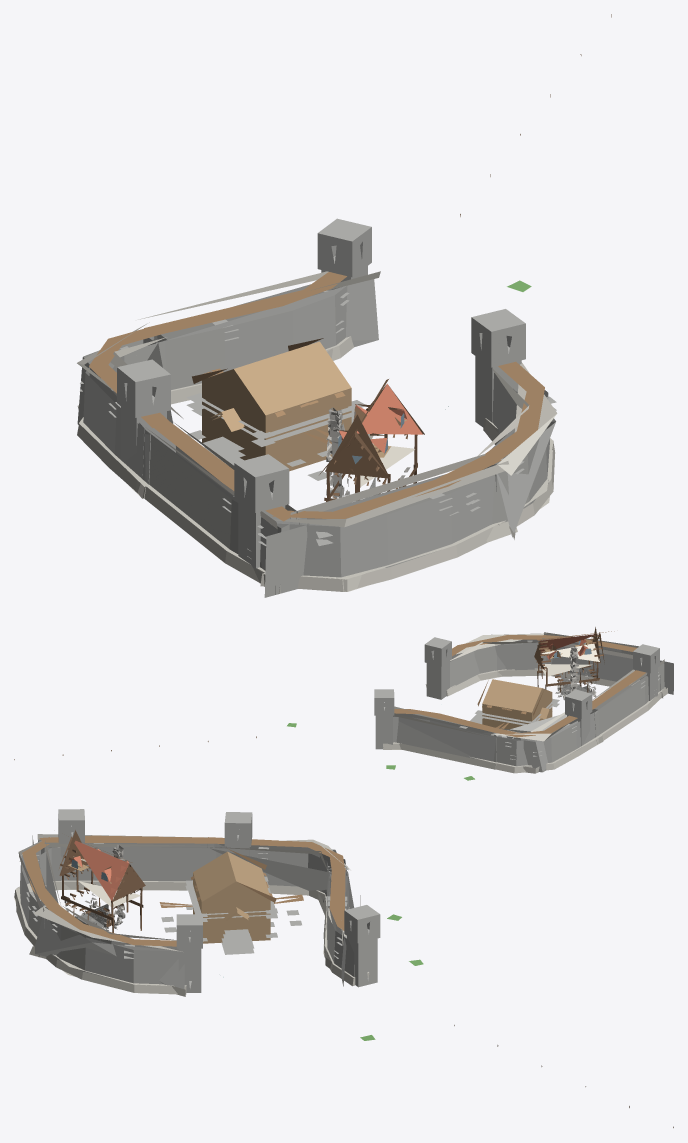
File: chunk_0_0_lod2.glb
The picture shows the model from 3 angles, top to bottom: view 1: azimuth 30°, elevation 25°; view 2: azimuth 150°, elevation 25°; view 3: azimuth 270°, elevation 25°; orthographic projection. The views are drawn at different scales.
Parts seen in each view (by area): view 1: Batched_Chunk_0_0.001; view 2: Batched_Chunk_0_0.001; view 3: Batched_Chunk_0_0.001.
Boxes of the visible parts, x1,y1,x2,y2 form: Batched_Chunk_0_0.001: (77, 14, 611, 597); Batched_Chunk_0_0.001: (14, 627, 673, 780); Batched_Chunk_0_0.001: (14, 809, 673, 1127).
Bounding box in the file's own units: 103 × 15.49 × 108.
